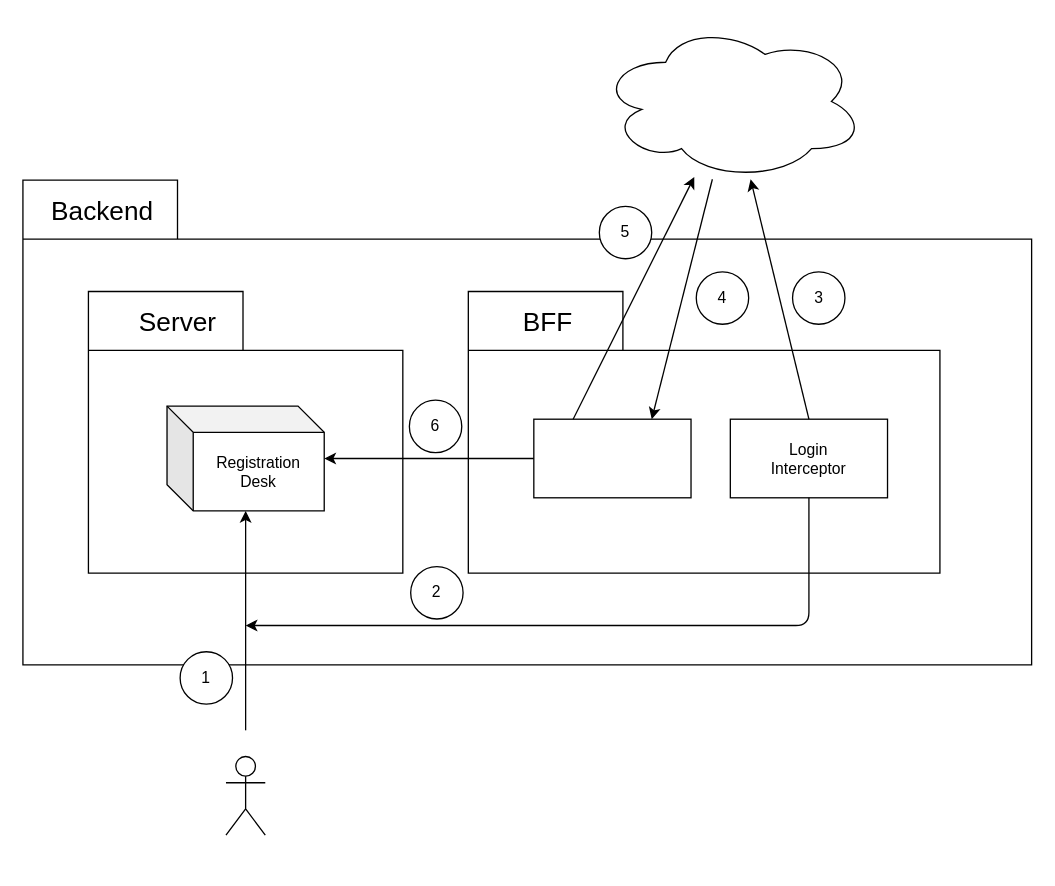
Some shapes in this 1055 by 886 pixel diagram are drawn without their labels. Each missing label, with the centre of its shape:
"Authorization Server" goes at pixel 731 101.
"OAuth Controller" goes at pixel 612 458.
"User" goes at pixel 245 795.
